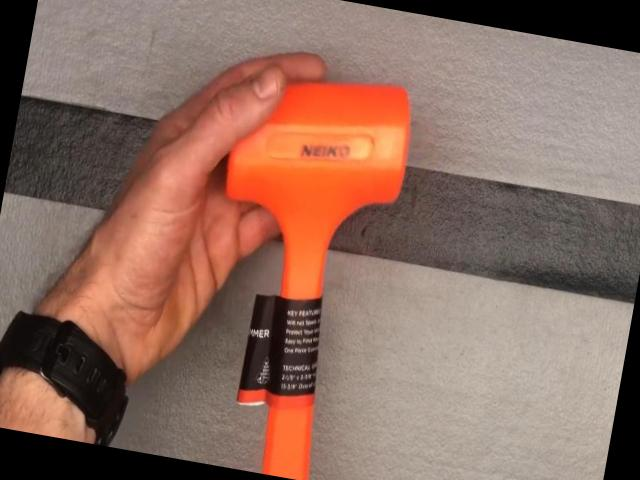hammer: (163, 56, 422, 480)
